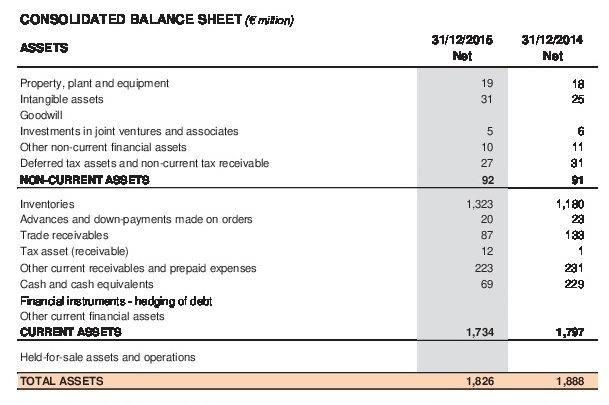table: (0, 0, 609, 405)
